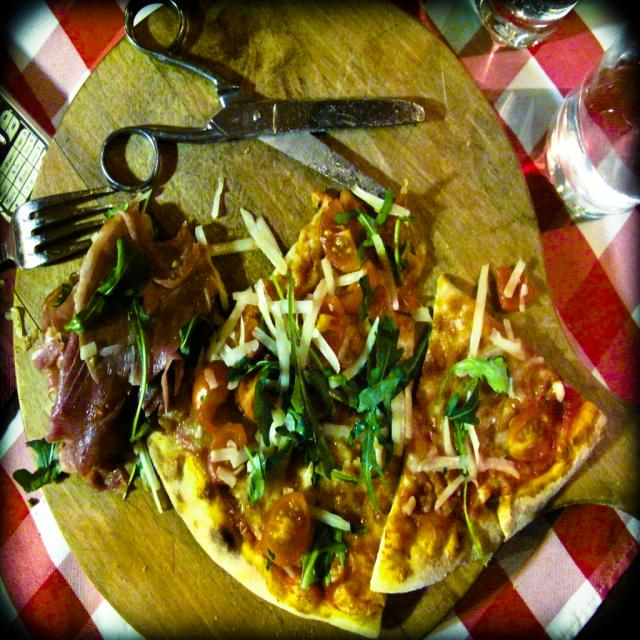scissors: (99, 0, 426, 202)
